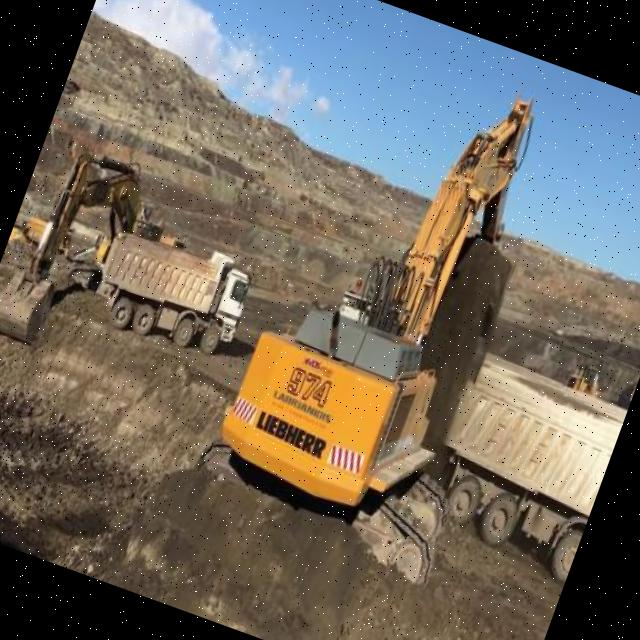Dump Truck: (418, 334, 636, 580), (84, 215, 260, 359)
Excavator: (188, 32, 592, 588), (0, 139, 166, 369)
